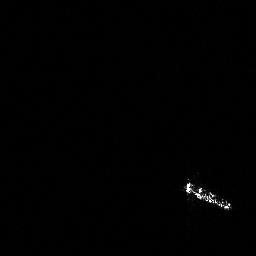ship: (178, 174, 236, 215)
